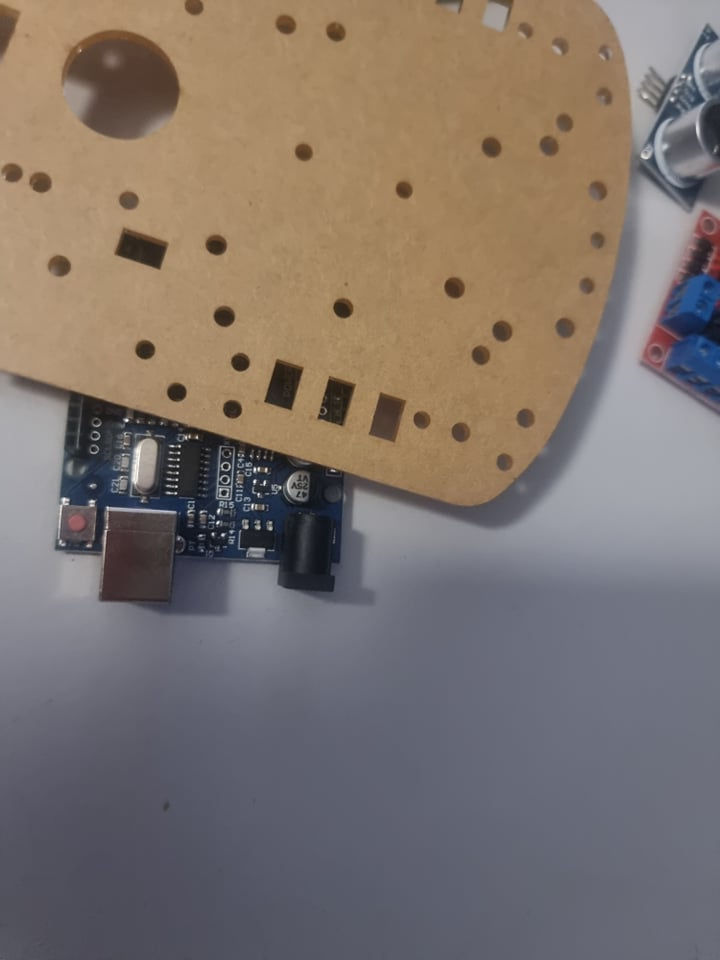UNO R3: (53, 388, 356, 602)
